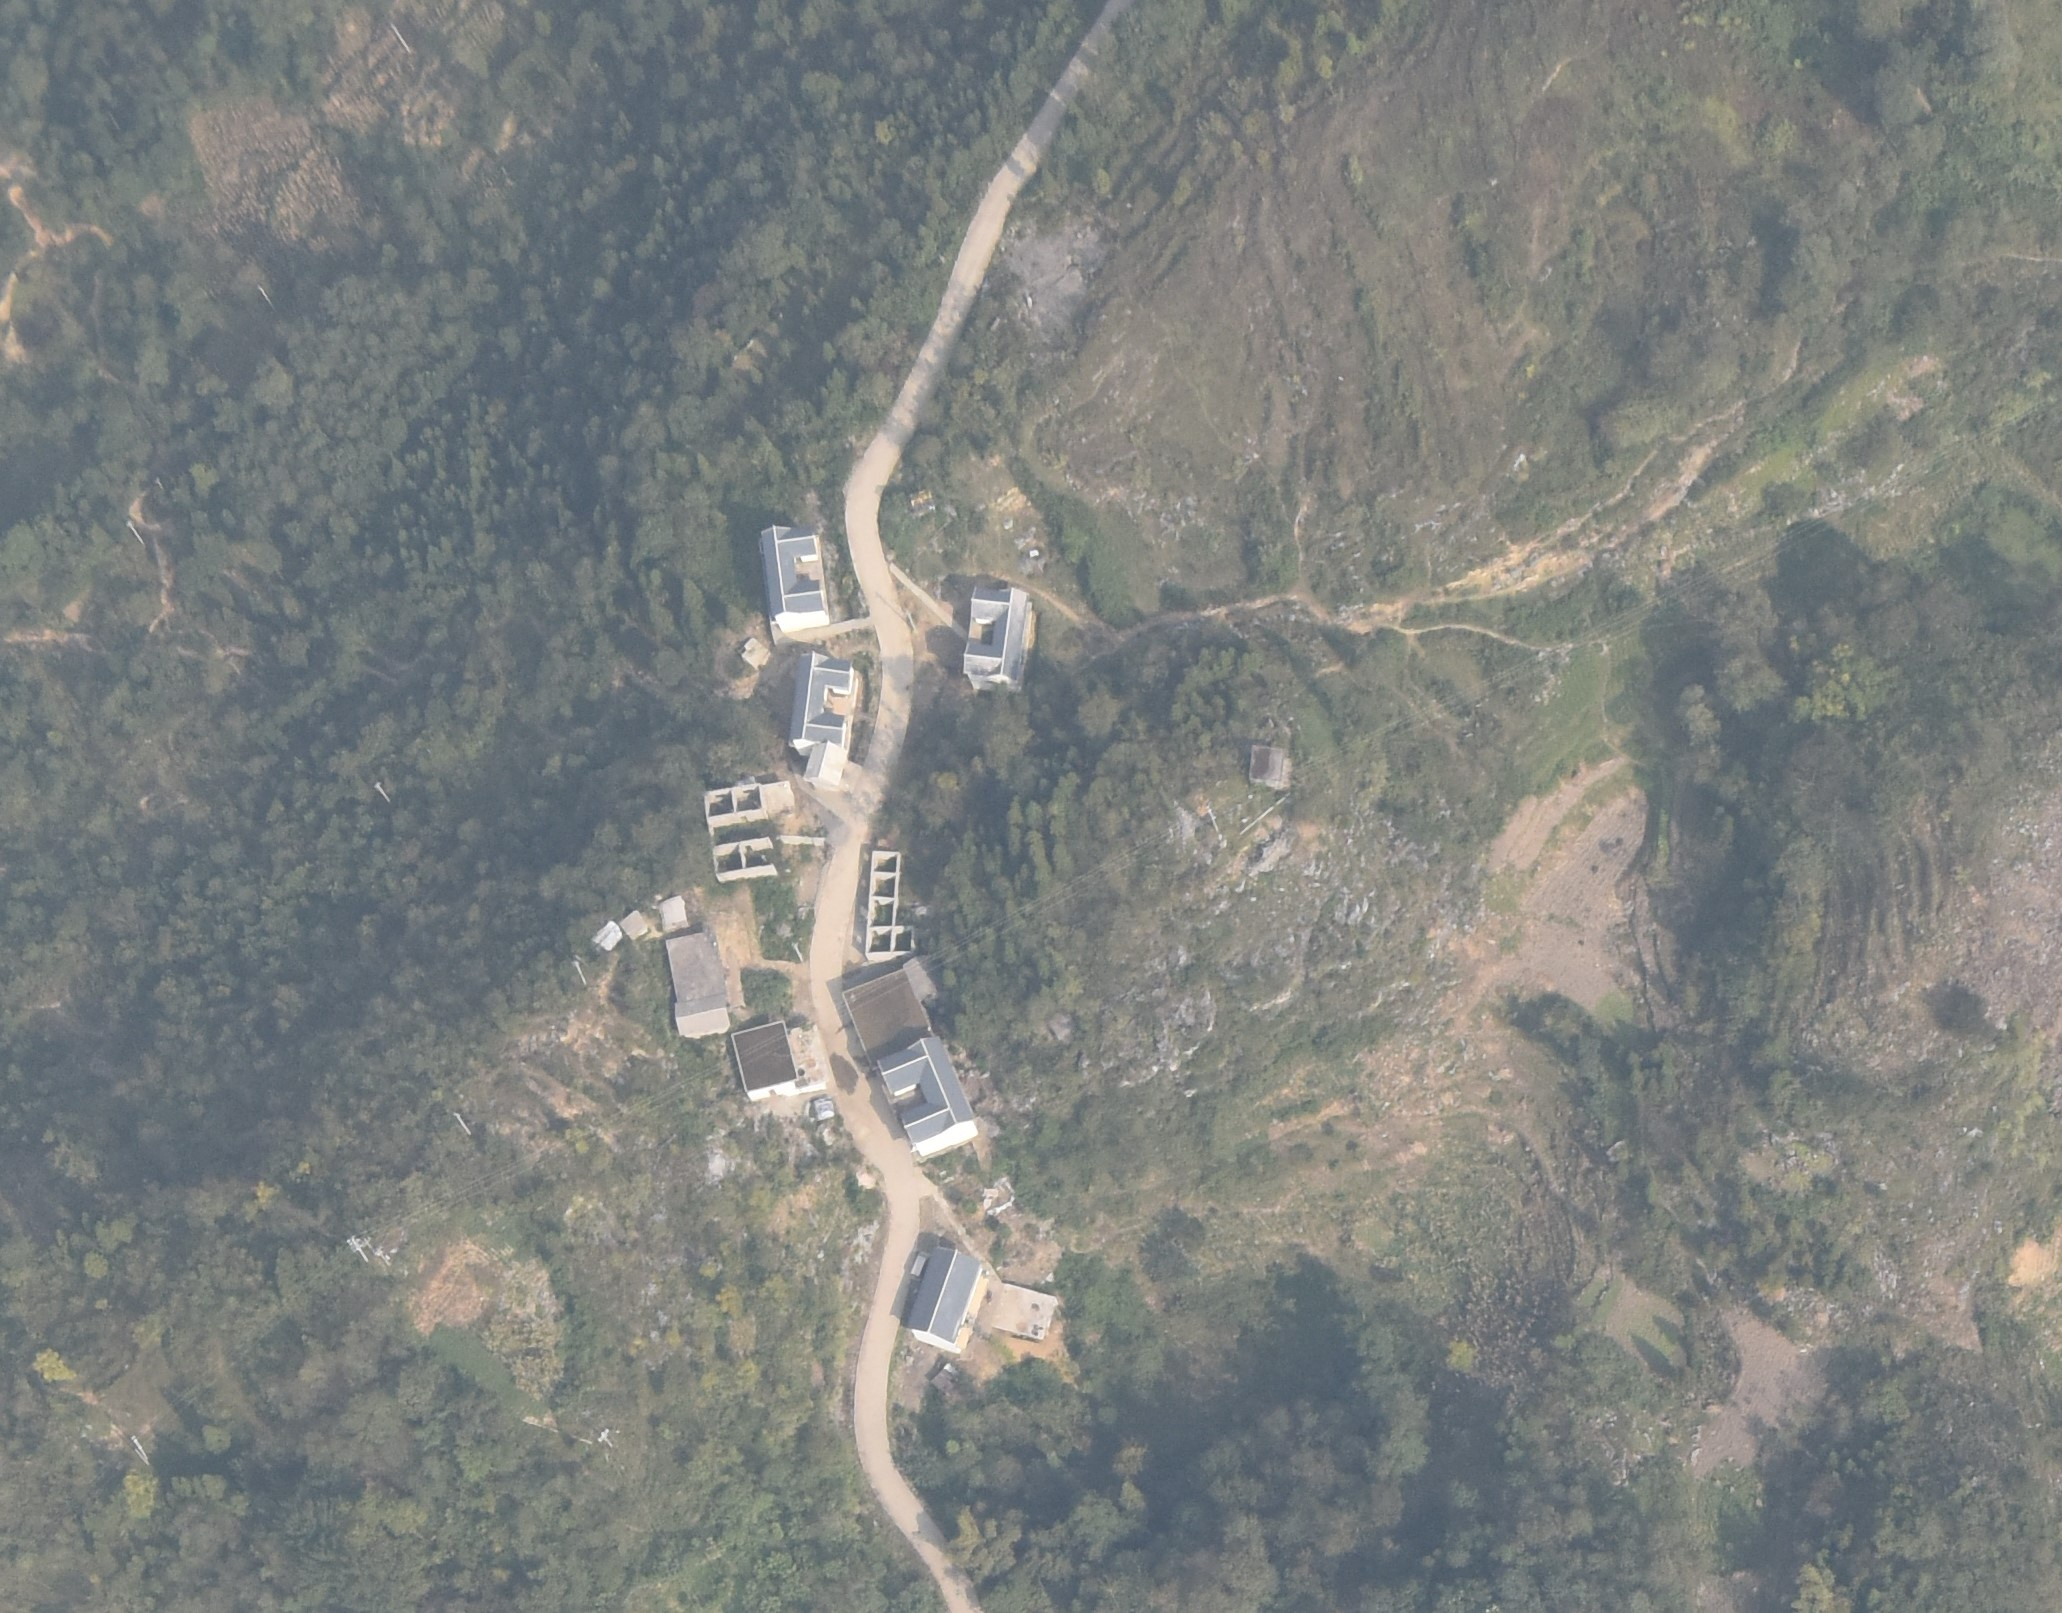building: (875, 1036, 977, 1160), (844, 970, 934, 1073), (907, 1245, 982, 1354), (760, 525, 828, 631), (962, 586, 1031, 689), (787, 651, 854, 756), (664, 934, 731, 1036), (730, 1019, 798, 1099), (803, 740, 847, 790)
cable-tower: (387, 23, 413, 55), (1205, 805, 1223, 843), (124, 520, 146, 550), (131, 1434, 151, 1466), (346, 1233, 368, 1262), (452, 1111, 469, 1136), (373, 1243, 392, 1265), (258, 283, 274, 306), (572, 960, 587, 986), (373, 781, 388, 803)
